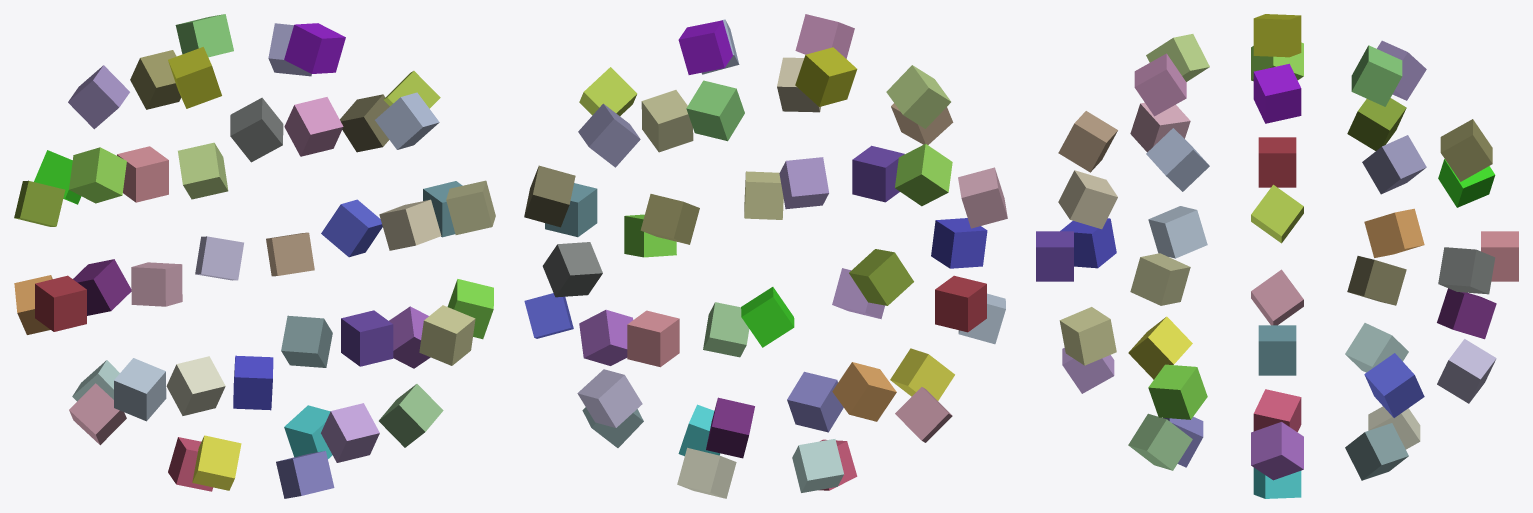
File: boxs.gltf
3 views of the same model, side by side, from view 1: azimuth 30°, elevation 25°; view 2: azimuth 150°, elevation 25°; view 3: azimuth 270°, elevation 25° (orthographic).
Visible parts, largest first — view 1: geo1; view 2: geo1; view 3: geo1.
Part boxes in pixels (x1,y1,x2,y2): geo1: [14, 14, 495, 498]; geo1: [524, 14, 1007, 498]; geo1: [1036, 14, 1518, 498].
Size of the model in its own units: 2.17 by 2.13 by 2.17.
